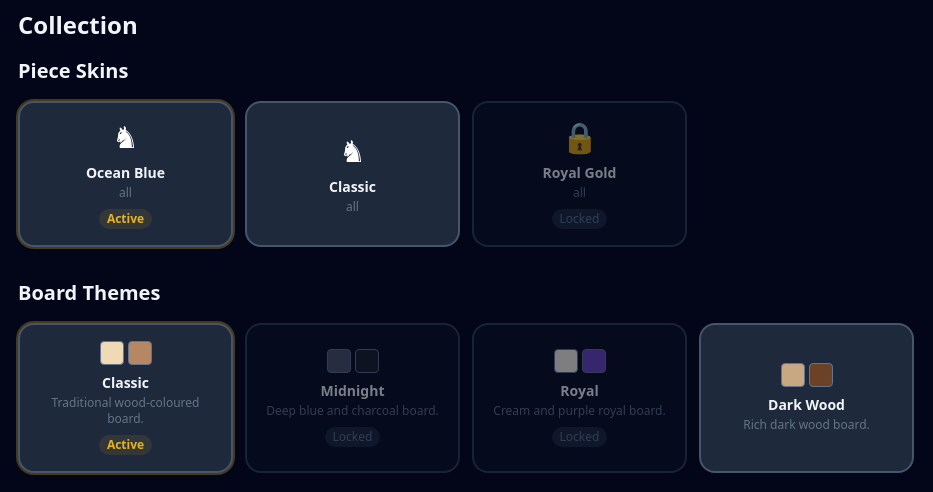
Test: Collection page › can select an unlocked board theme
The width and height of the screenshot is (933, 492).
Check: the text "Dark Wood" is shown, box [768,395,845,414]
Note: Click Dark Wood theme
Step 1. Click the button labelled "Dark Wood Rich dark wood board." → (806, 398), box [699,323,914,473]
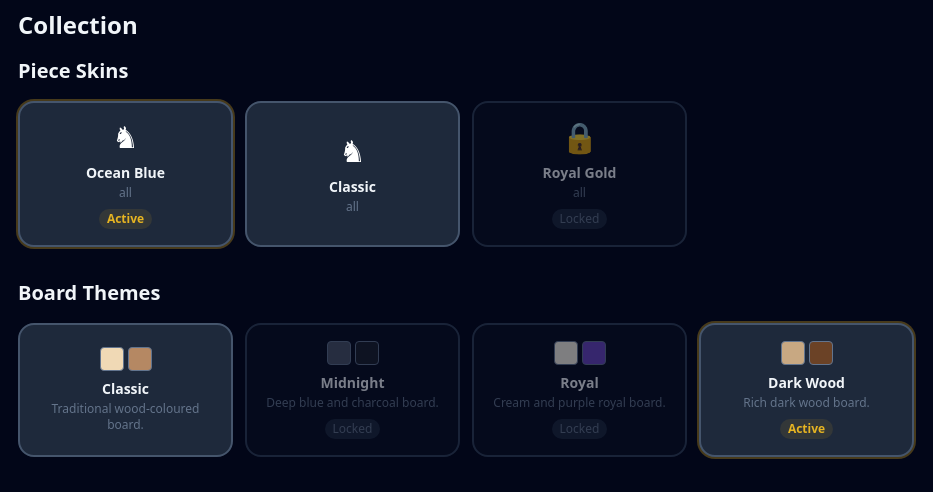
Check: the button with aria-label "Dark Wood (selected)" is shown, box [699,323,914,457]
